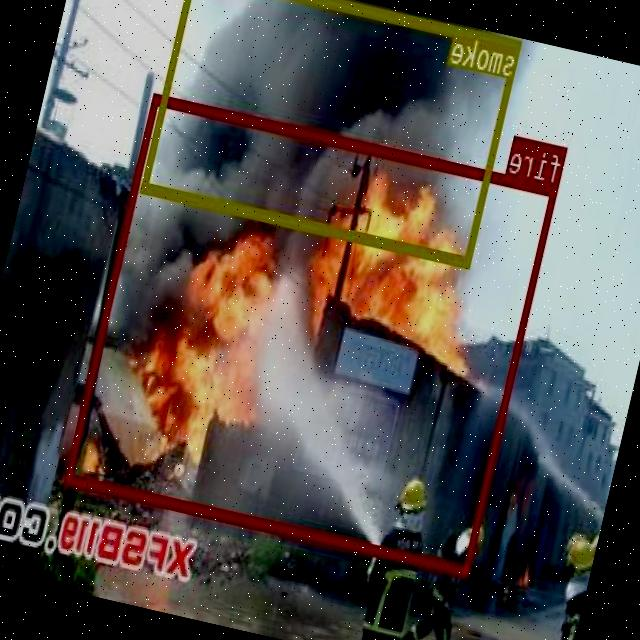fire: (66, 90, 560, 574)
smoke: (141, 0, 523, 267)
